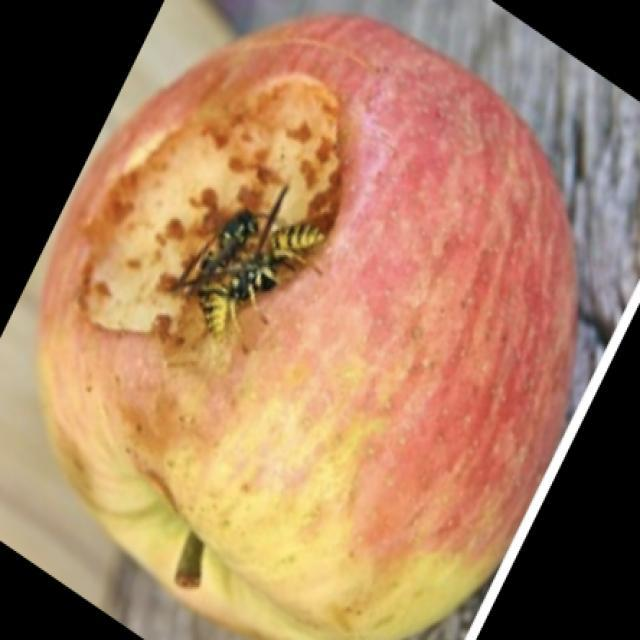Rotten: (49, 23, 578, 622)
